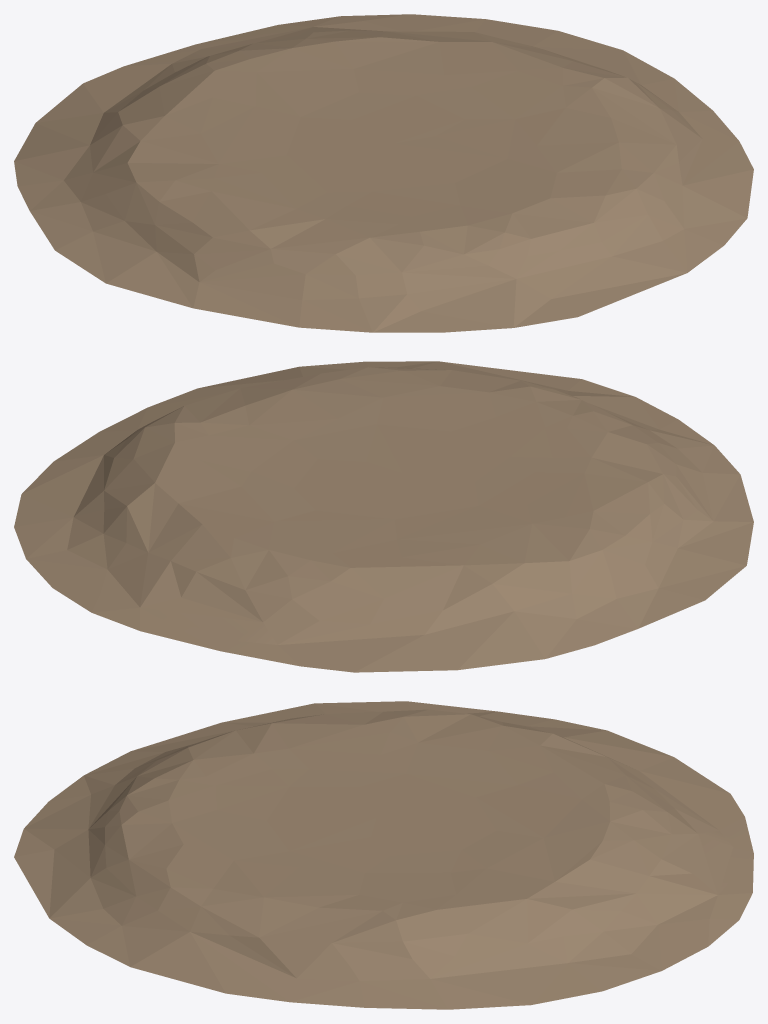
Rendered from SM_Env_Ground_Hill_Flat_01.glb.
The picture shows the model from 3 angles, top to bottom: view 1: azimuth 30°, elevation 25°; view 2: azimuth 150°, elevation 25°; view 3: azimuth 270°, elevation 25°; orthographic projection.
Visible parts, largest first — view 1: SM_Env_Ground_Hill_Flat_01; view 2: SM_Env_Ground_Hill_Flat_01; view 3: SM_Env_Ground_Hill_Flat_01.
Part boxes in pixels (x1,y1,x2,y2): SM_Env_Ground_Hill_Flat_01: (14,14,753,332); SM_Env_Ground_Hill_Flat_01: (14,361,753,672); SM_Env_Ground_Hill_Flat_01: (14,701,753,1009).
Bounding box in the file's own units: 16.69 × 1.09 × 16.92.
1 material, 1 textured.
